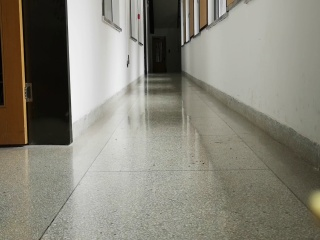room: (2, 3, 72, 149)
